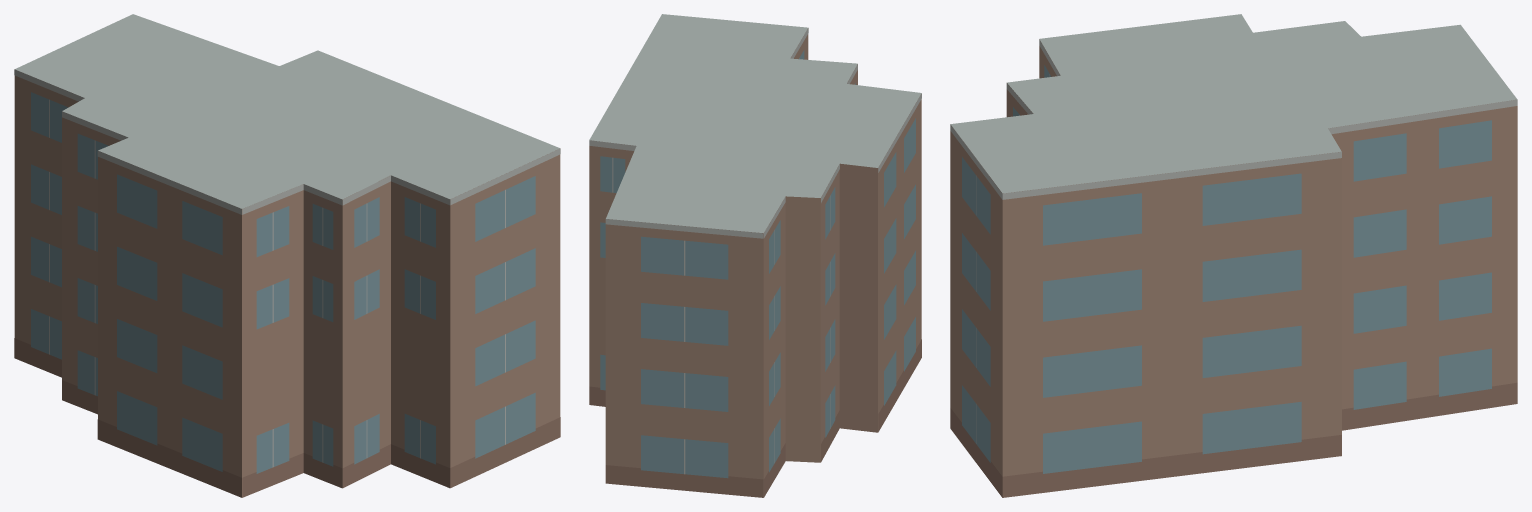
File: survey-upis-32620948.glb
3 renders of one model, left to right at view 1: azimuth 30°, elevation 25°; view 2: azimuth 150°, elevation 25°; view 3: azimuth 270°, elevation 25°, orthographic. The views are drawn at different scales.
Visible parts, largest first — view 1: survey-upis-32620948.tmp; view 2: survey-upis-32620948.tmp; view 3: survey-upis-32620948.tmp.
Boxes of the visible parts, x1,y1,x2,y2 form: survey-upis-32620948.tmp: (14,14,560,497); survey-upis-32620948.tmp: (589,14,921,497); survey-upis-32620948.tmp: (950,14,1517,497).
Size of the model in its own units: 14.68 by 11.6 by 19.6.
